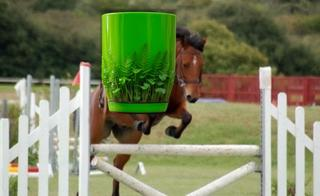horse: (77, 23, 213, 195)
pottedplant: (100, 9, 176, 113)
